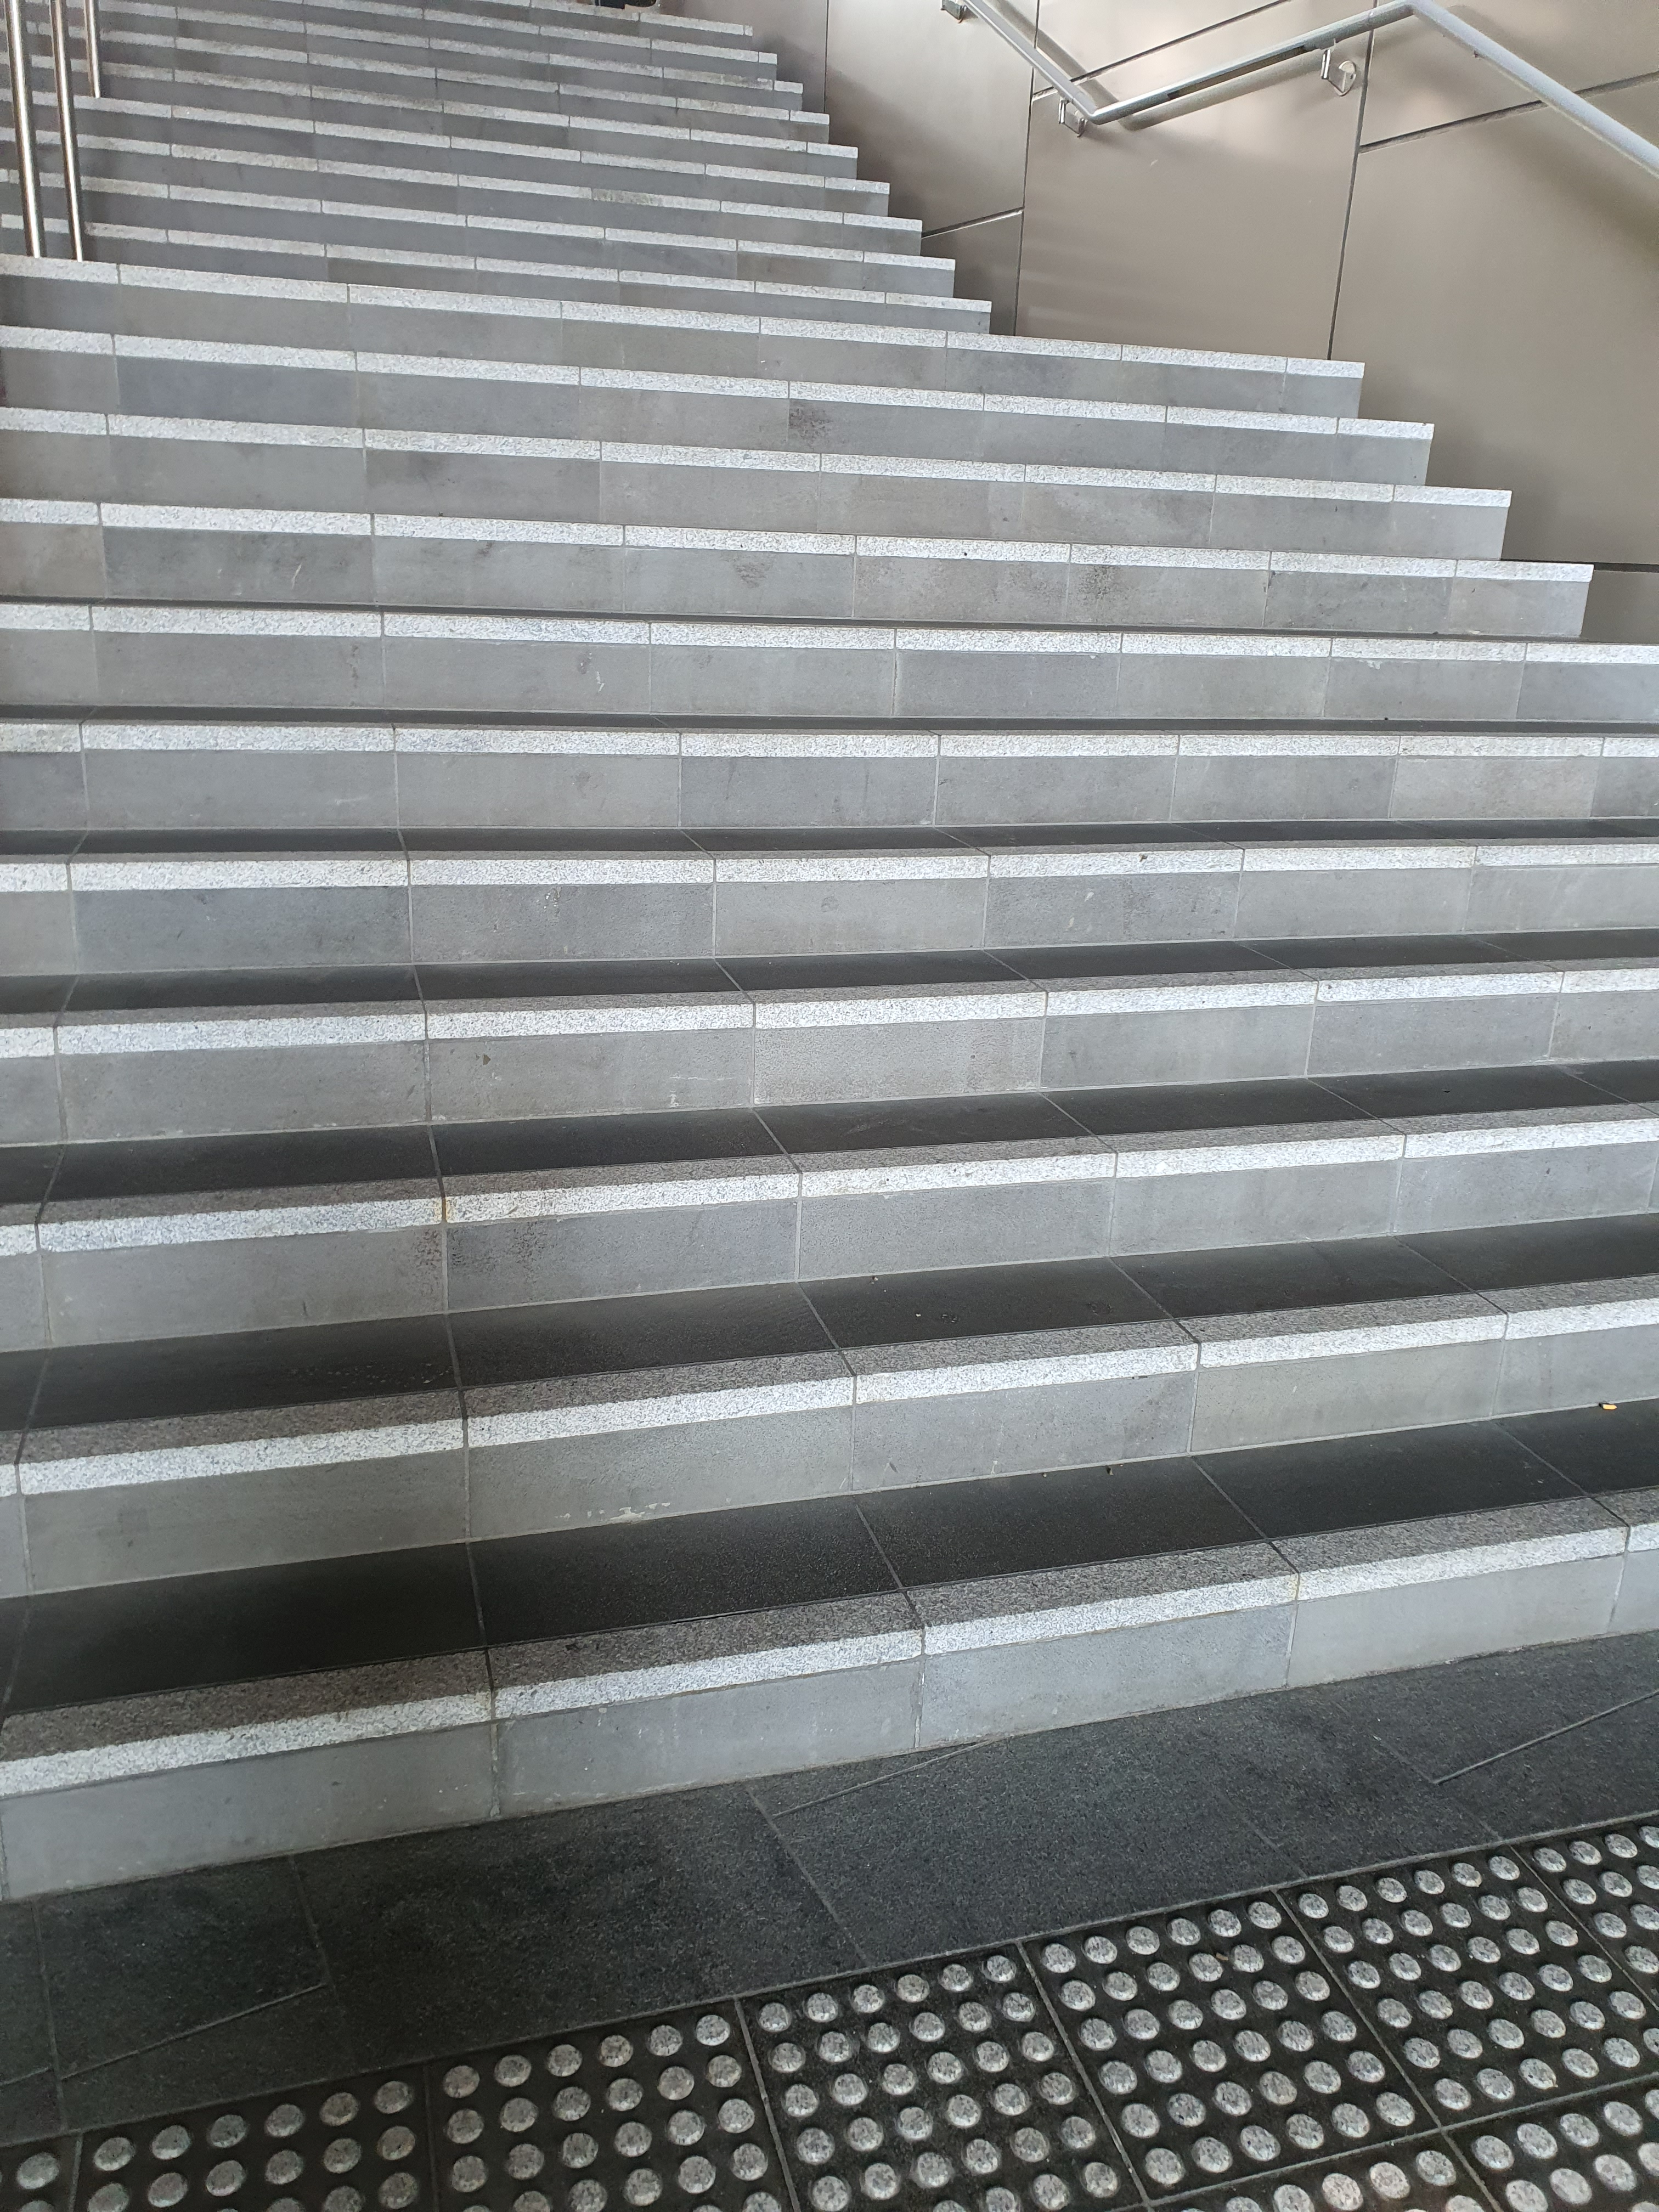upstairs: (16, 874, 1659, 2005)
